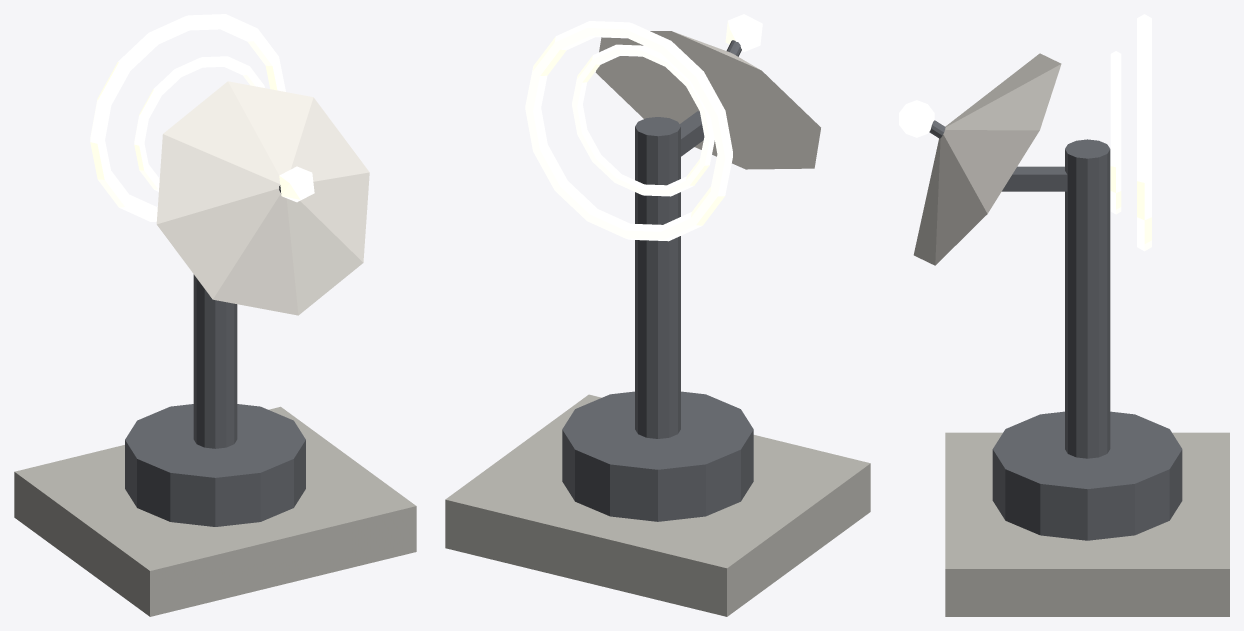
File: LM09_RSS.glb
The picture shows the model from 3 angles, left to right: view 1: azimuth 30°, elevation 25°; view 2: azimuth 150°, elevation 25°; view 3: azimuth 270°, elevation 25°; orthographic projection. The views are drawn at different scales.
Visible parts, largest first — view 1: Base, Dish, Foot, Mast, WaveOuter, WaveInner, FeedBall; view 2: Base, Foot, Dish, Mast, WaveOuter, WaveInner, FeedBall, DishArm; view 3: Base, Foot, Mast, Dish, WaveOuter, WaveInner, DishArm, FeedBall.
Part boxes in pixels (left/top/right/bottom): Base: left=14, top=406, right=416, bottom=616; Dish: left=156, top=81, right=369, bottom=315; Foot: left=125, top=404, right=305, bottom=526; Mast: left=193, top=274, right=237, bottom=448; WaveOuter: left=90, top=14, right=285, bottom=221; WaveInner: left=134, top=56, right=264, bottom=191; FeedBall: left=279, top=166, right=314, bottom=202; Base: left=445, top=394, right=870, bottom=616; Foot: left=562, top=391, right=753, bottom=521; Dish: left=595, top=31, right=820, bottom=169; Mast: left=635, top=117, right=680, bottom=438; WaveOuter: left=525, top=21, right=732, bottom=241; WaveInner: left=572, top=44, right=714, bottom=196; FeedBall: left=725, top=14, right=762, bottom=51; DishArm: left=679, top=111, right=704, bottom=156; Base: left=945, top=432, right=1229, bottom=616; Foot: left=992, top=411, right=1182, bottom=540; Mast: left=1065, top=139, right=1110, bottom=458; Dish: left=913, top=53, right=1061, bottom=265; WaveOuter: left=1137, top=14, right=1151, bottom=251; WaveInner: left=1110, top=51, right=1121, bottom=214; DishArm: left=1002, top=166, right=1067, bottom=191; FeedBall: left=899, top=100, right=934, bottom=137.
Size of the model in its own units: 1.7 by 3.05 by 1.74.
